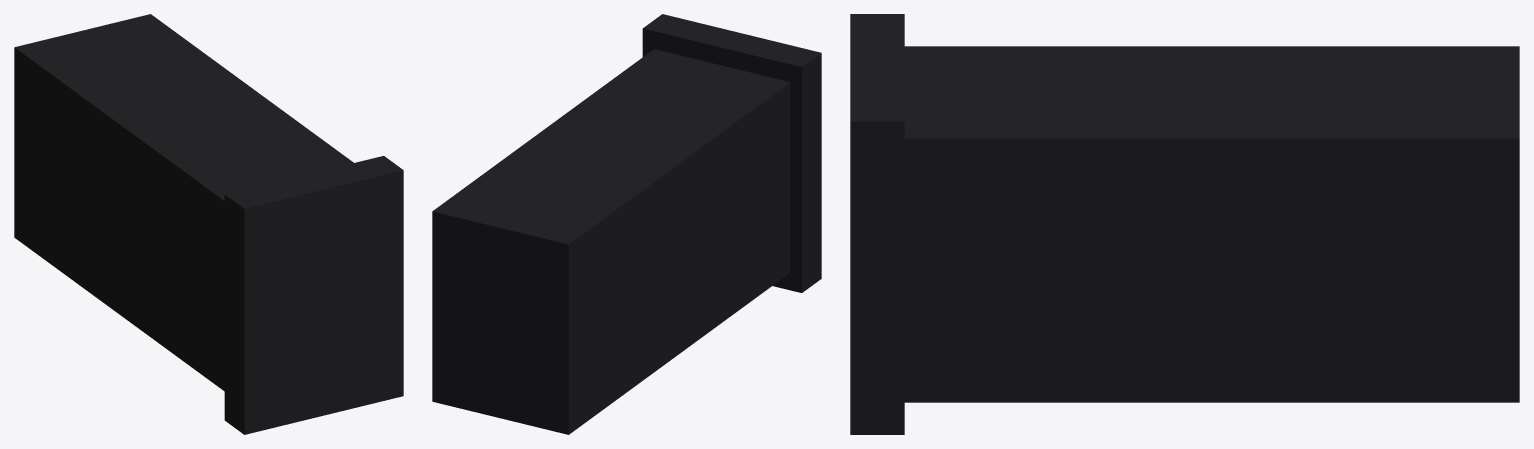
File: Glock17_Mag17.fbx
3 renders of one model, left to right at view 1: azimuth 30°, elevation 25°; view 2: azimuth 150°, elevation 25°; view 3: azimuth 270°, elevation 25°, orthographic. The views are drawn at different scales.
Parts seen in each view (by area): view 1: prims; view 2: prims; view 3: prims.
Part boxes in pixels (bbox=[...]): prims: bbox=[14, 14, 403, 434]; prims: bbox=[432, 14, 821, 434]; prims: bbox=[850, 14, 1519, 434].
Size of the model in its own units: 0.0168 by 0.0228 by 0.0442.
